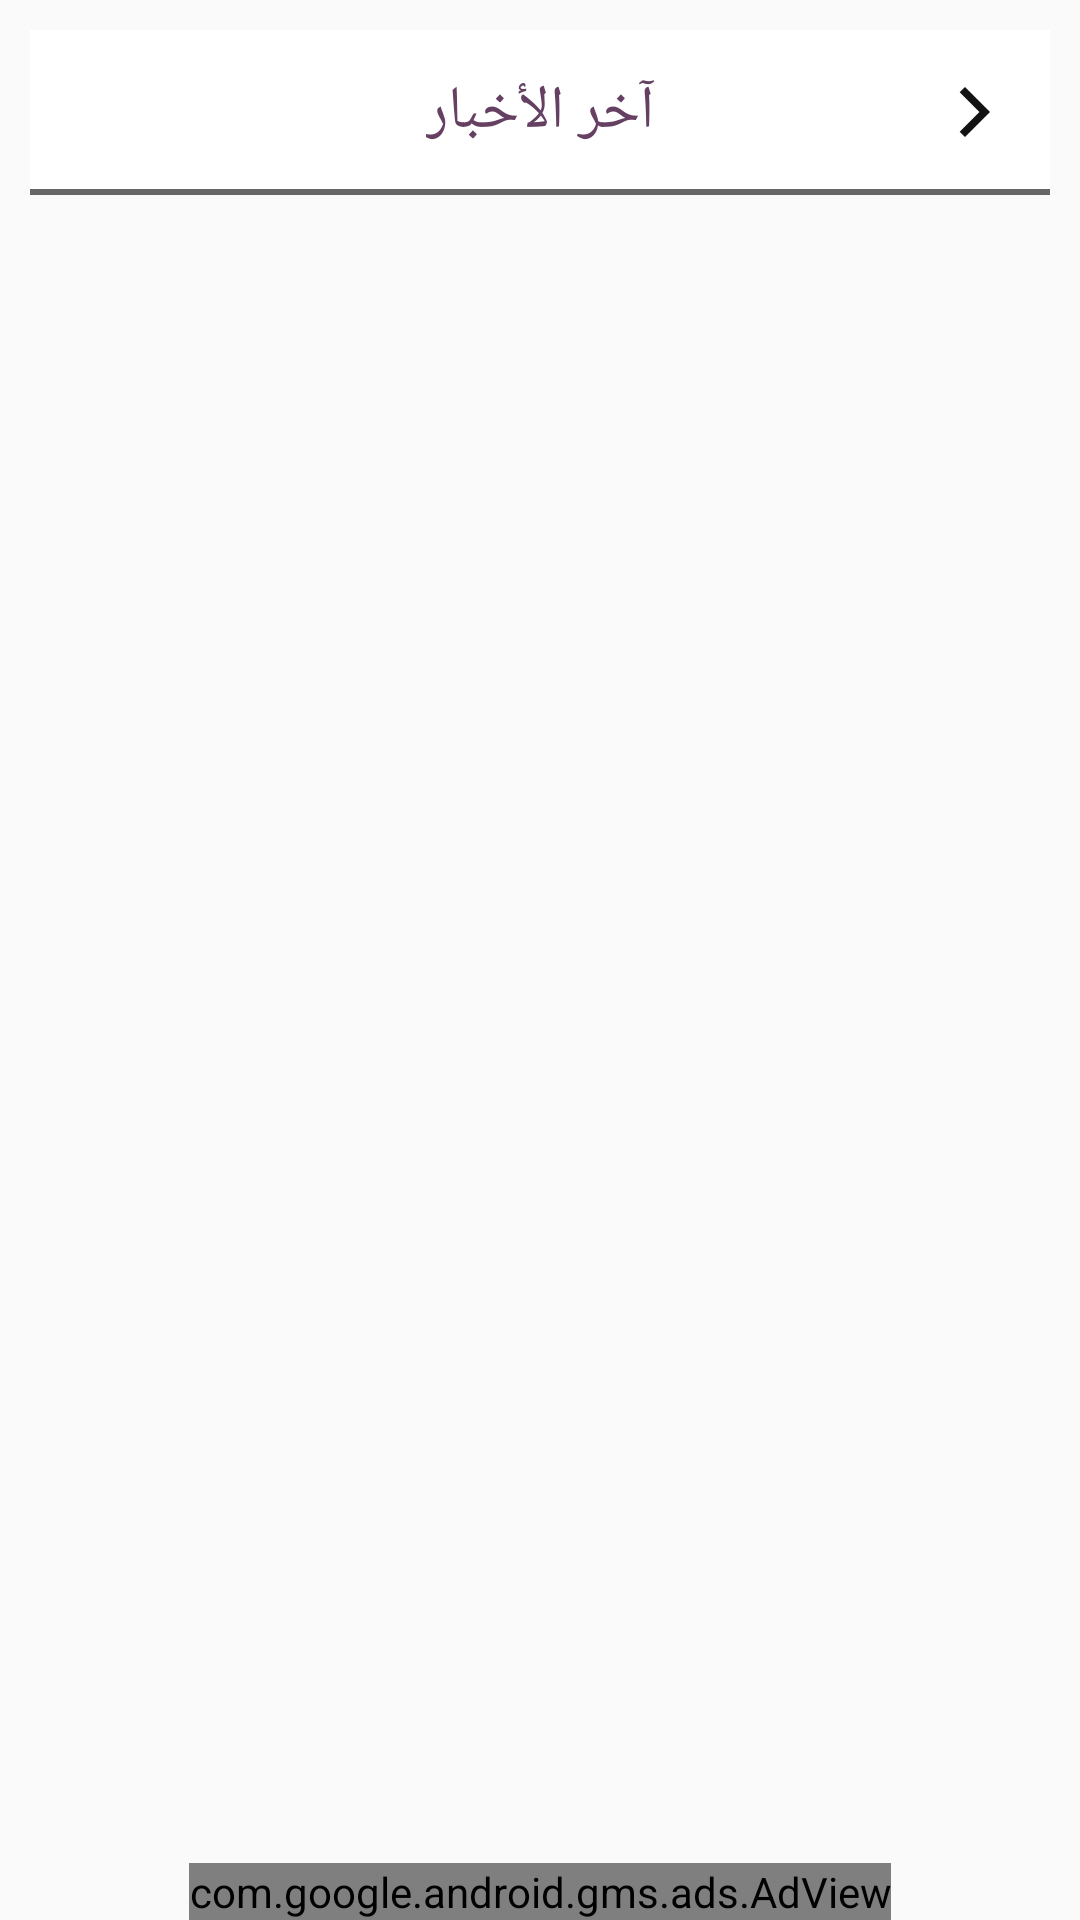

Where icons sit on this 1080*1920 app screen, as (x1, y1, x2, y2):
arrow forward: (960, 87, 990, 137)
